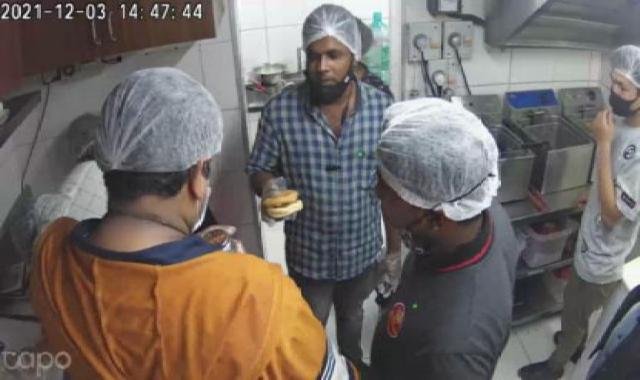hairnet: (380, 96, 507, 220), (106, 68, 226, 177), (288, 3, 378, 59), (60, 110, 117, 166), (595, 41, 640, 97)
